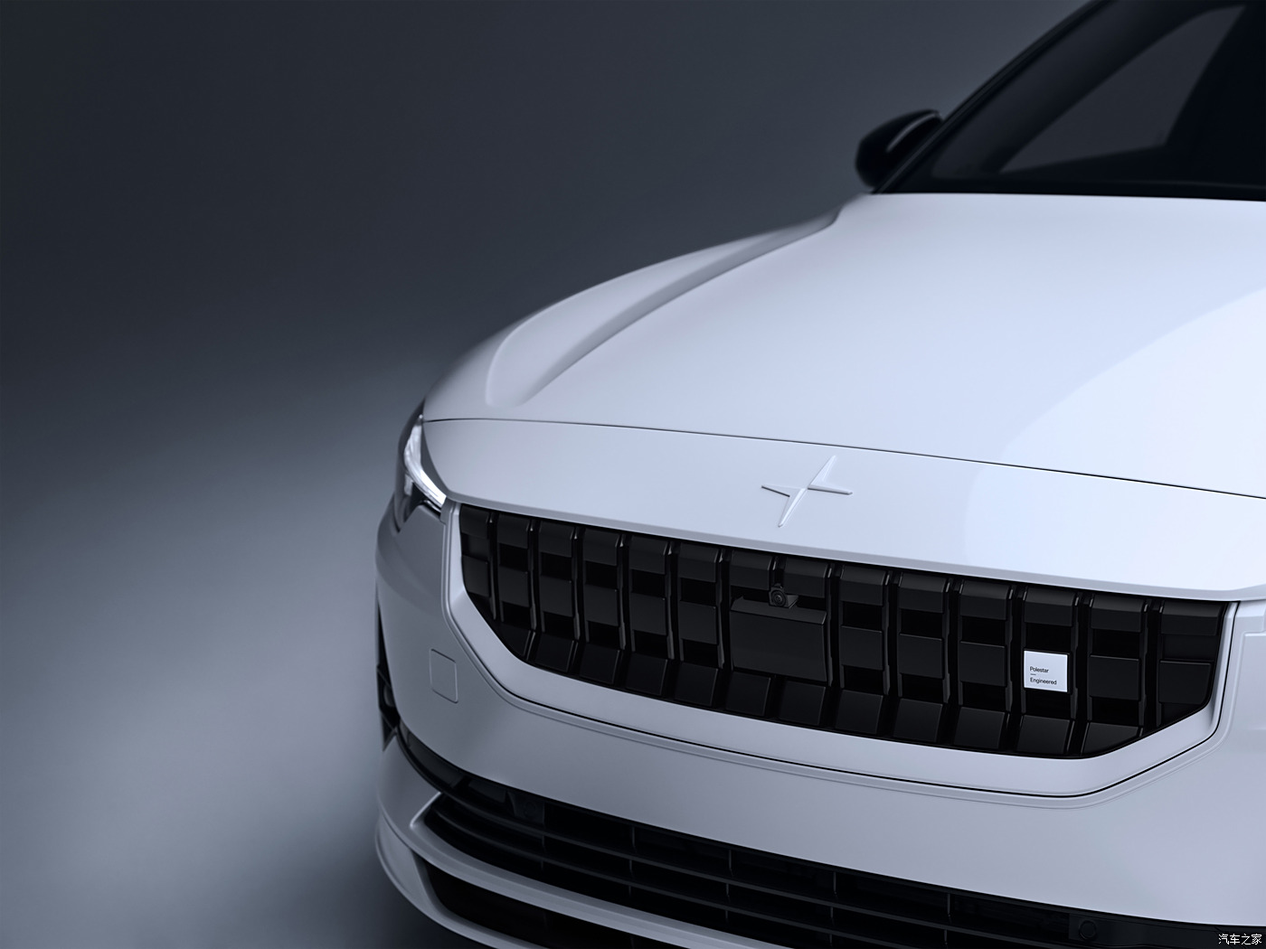Polestar: (762, 456, 851, 527)
